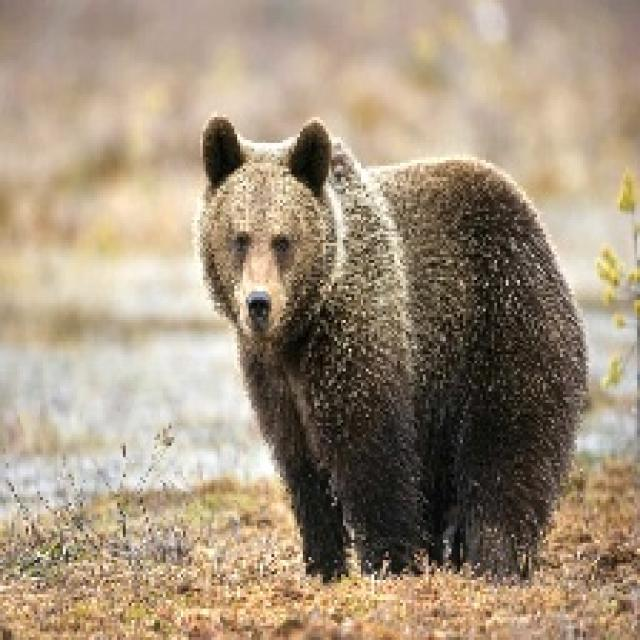animal: (177, 101, 612, 584)
